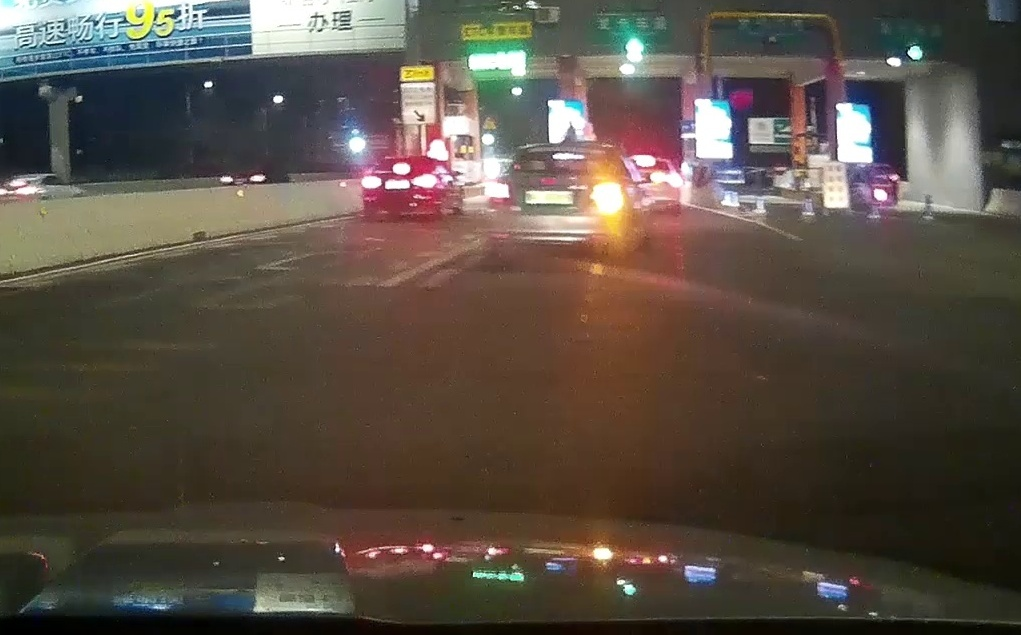L_light: (486, 180, 514, 205), (360, 176, 382, 189)
R_light: (590, 184, 624, 212), (412, 173, 437, 188)
T_light: (551, 150, 582, 160), (391, 162, 411, 174)
night-brake: (360, 154, 440, 219)
night-right: (486, 143, 630, 254)
